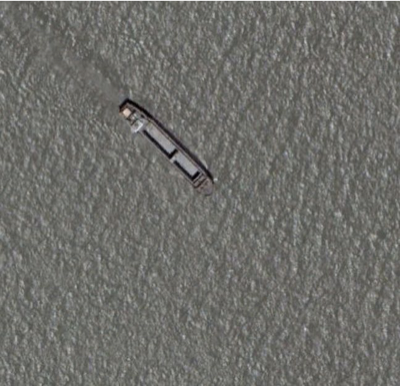boat: (116, 96, 216, 197)
